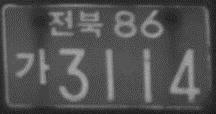1: (103, 45, 118, 105), (141, 45, 155, 105)
3: (58, 45, 90, 103)
4: (167, 47, 201, 102)
6: (140, 8, 164, 40)
8: (113, 9, 138, 38)
가: (15, 47, 52, 86)
전북_O: (47, 10, 105, 38)
